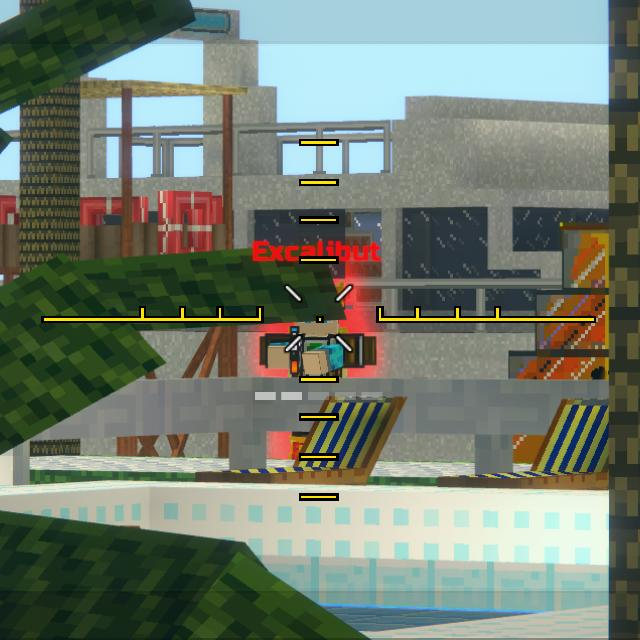Enemy: (259, 281, 377, 461)
